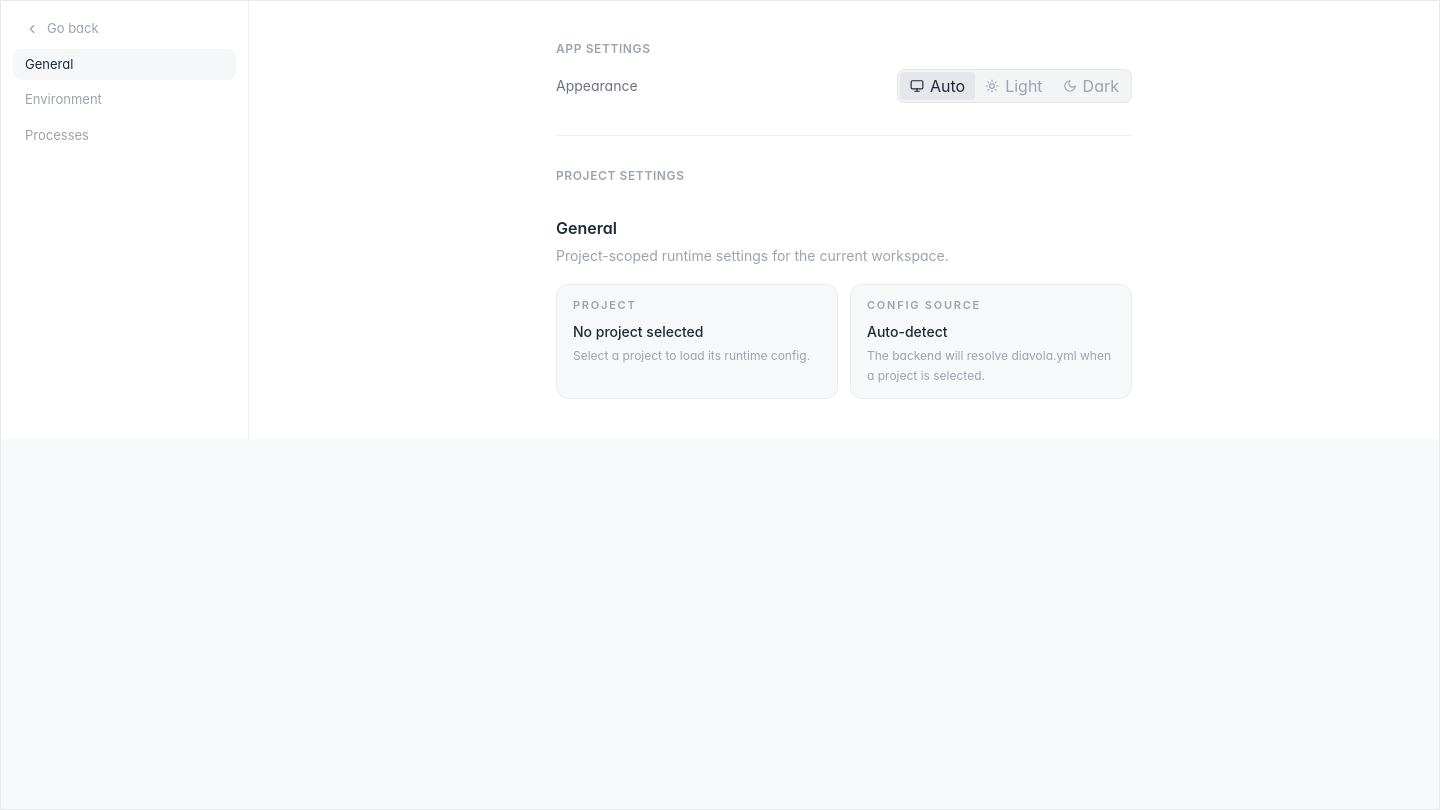
Test: ConfigEditor › tracks the active settings section and scrolls to it from the left navigation
The image size is (1440, 810).
Step 1. Click the link "Processes" → (57, 134), box [25,126,89,142]
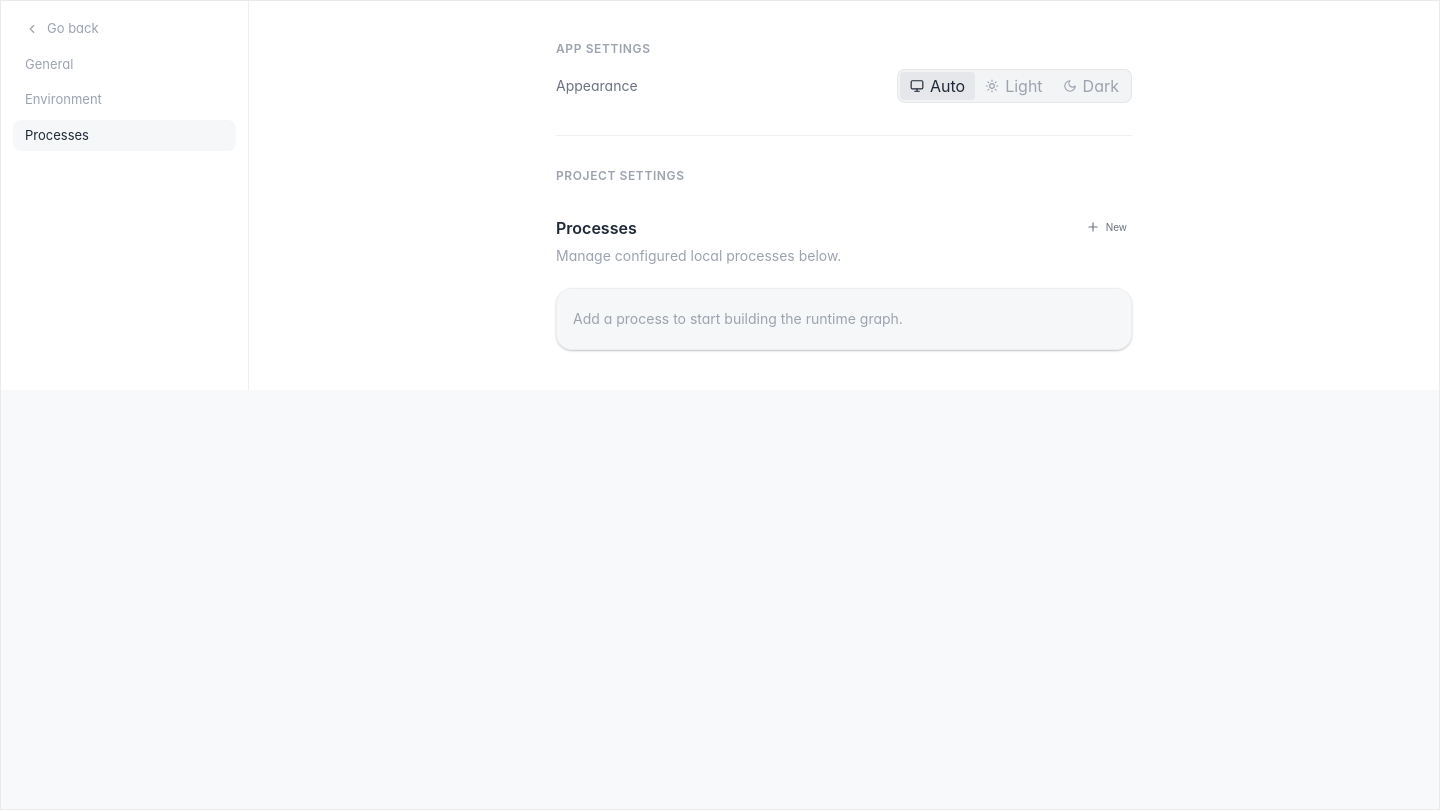
Now the heading "Processes" is shown, box [556,218,637,238]
